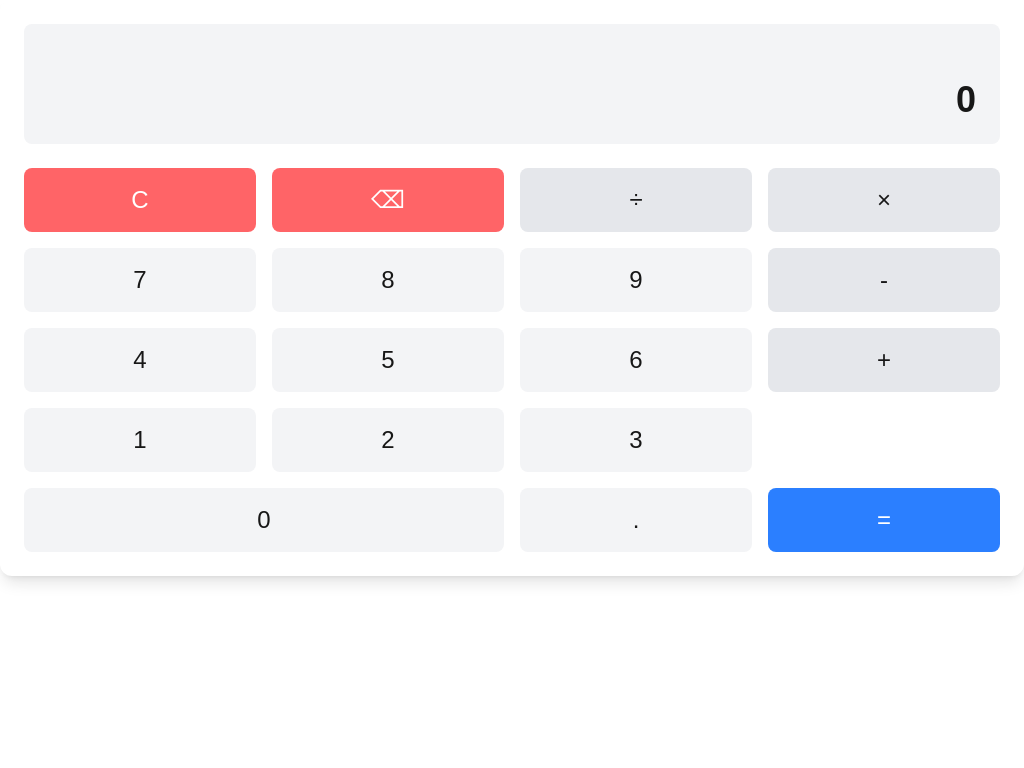
Scenario: Calculator › clears the display when C button is pressed
Note: Add some numbers
Click the button with test id "button-5": [388, 360] box [272,328,504,392]
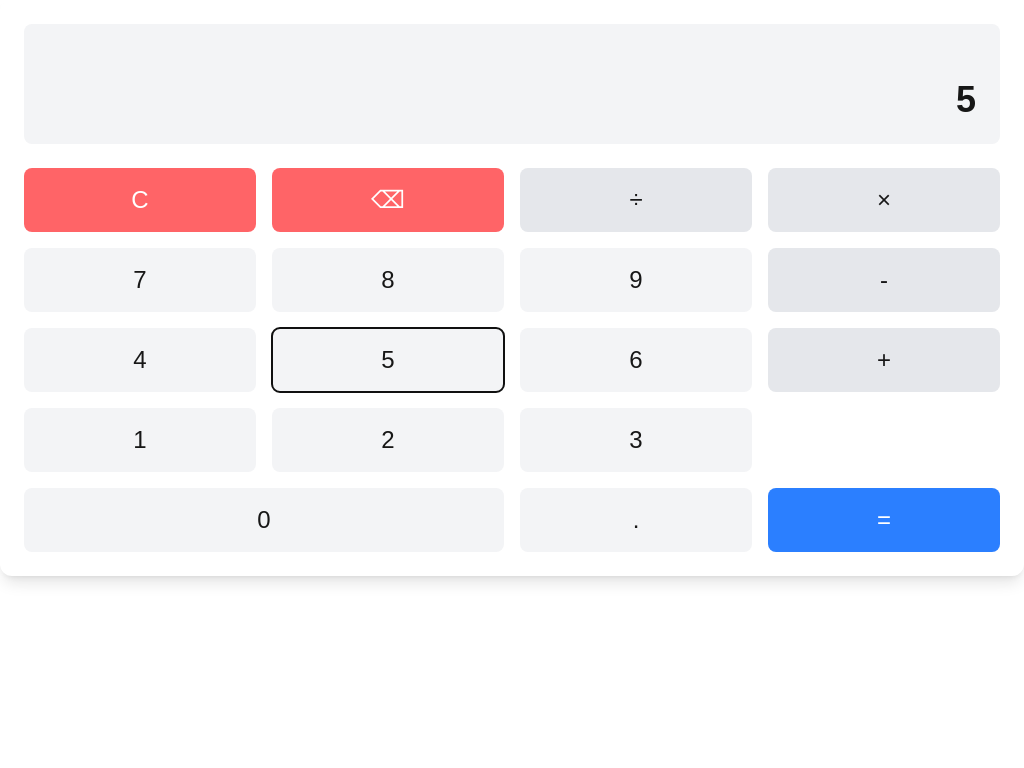
Click the button with test id "button-6": [636, 360] box [520,328,752,392]
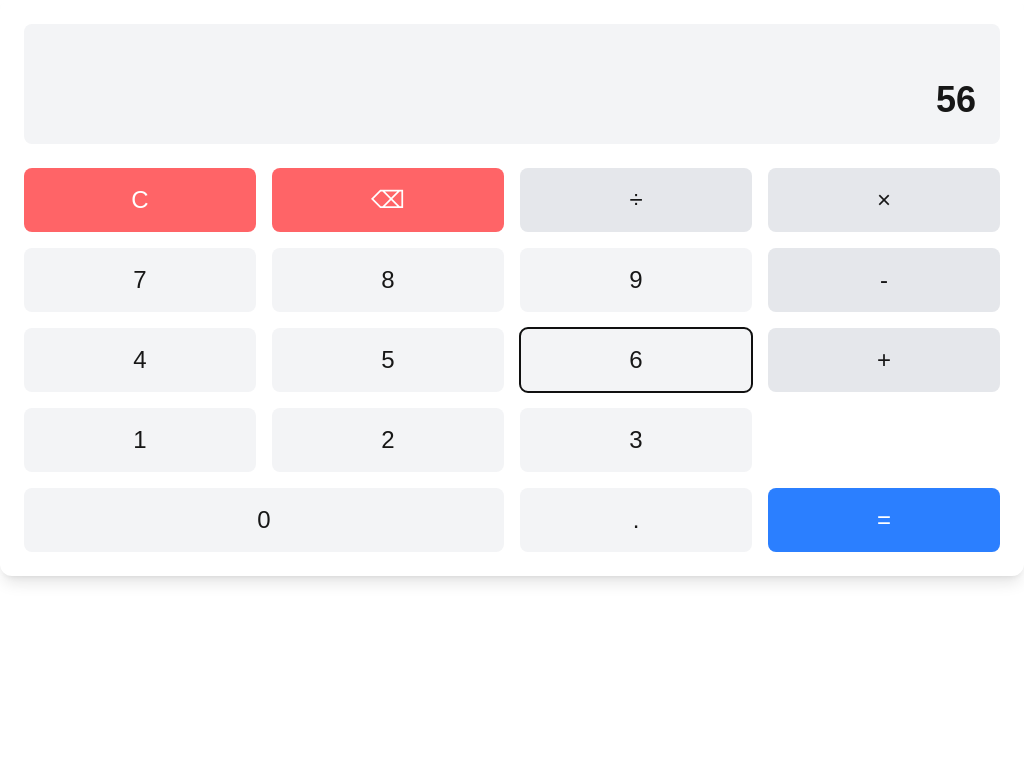
Now the text with test id "display" reads "56", box [936,79,976,120]
Note: Clear the display
Click the button with test id "button-C": [140, 200] box [24,168,256,232]
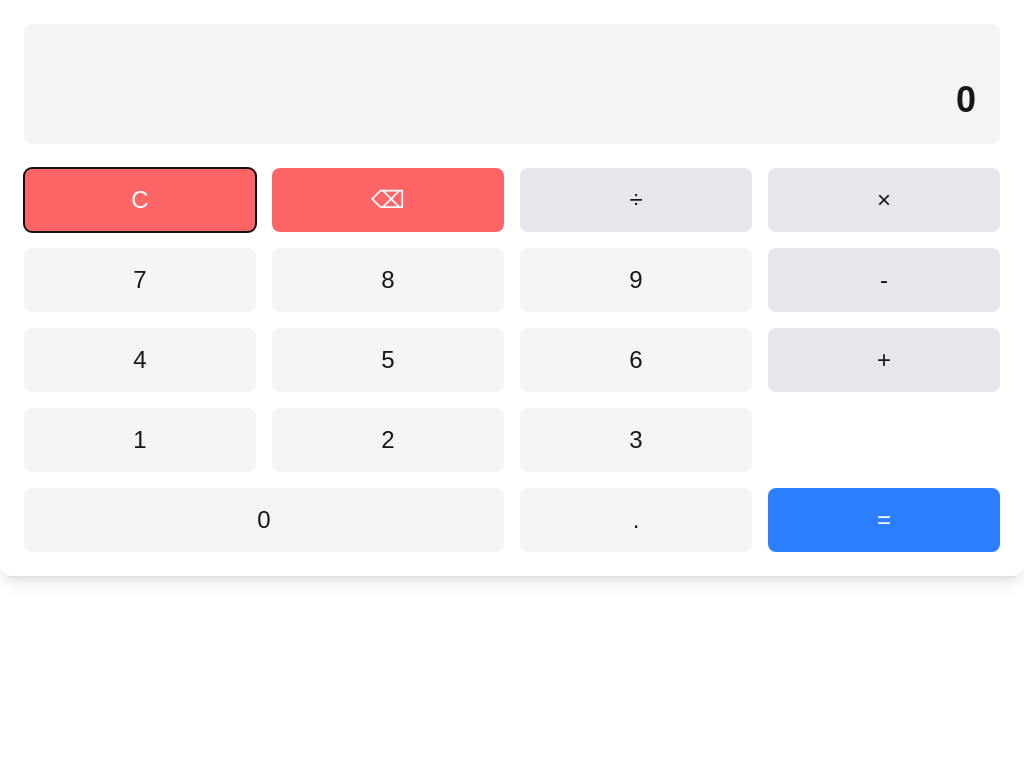
Now the text with test id "display" reads "0", box [956,79,976,120]
